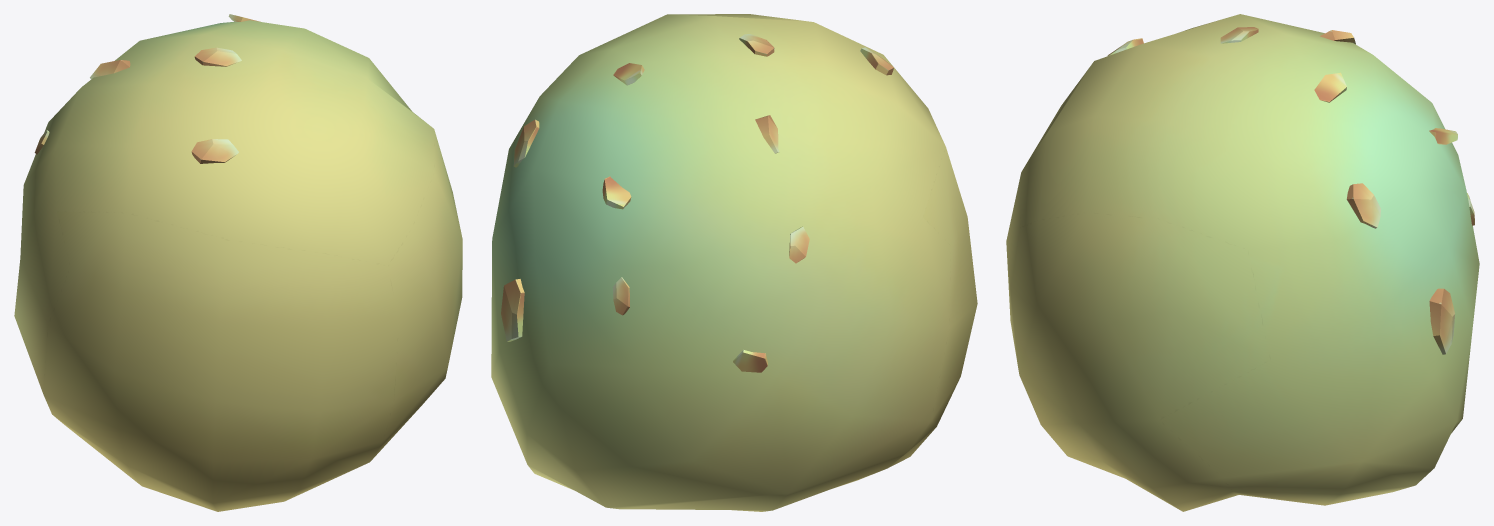
The model's file is bocha_amarilla.fbx.
3 renders of one model, left to right at view 1: azimuth 30°, elevation 25°; view 2: azimuth 150°, elevation 25°; view 3: azimuth 270°, elevation 25°, orthographic. The views are drawn at different scales.
Visible parts, largest first — view 1: Retopo_Cube.008; view 2: Retopo_Cube.008; view 3: Retopo_Cube.008.
Part boxes in pixels (<box>): Retopo_Cube.008: <box>14,14,462,511</box>; Retopo_Cube.008: <box>491,14,977,511</box>; Retopo_Cube.008: <box>1006,14,1479,511</box>.
Size of the model in its own units: 172 by 168 by 170.
1 material, 1 textured.
